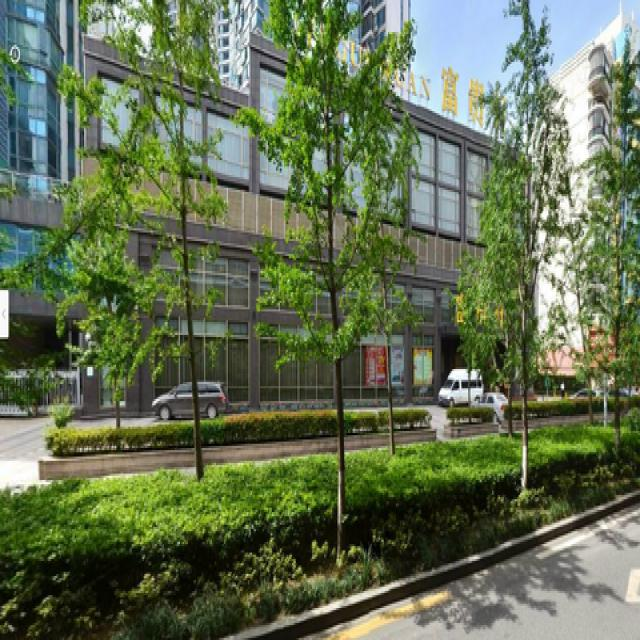gink: (271, 4, 376, 544)
